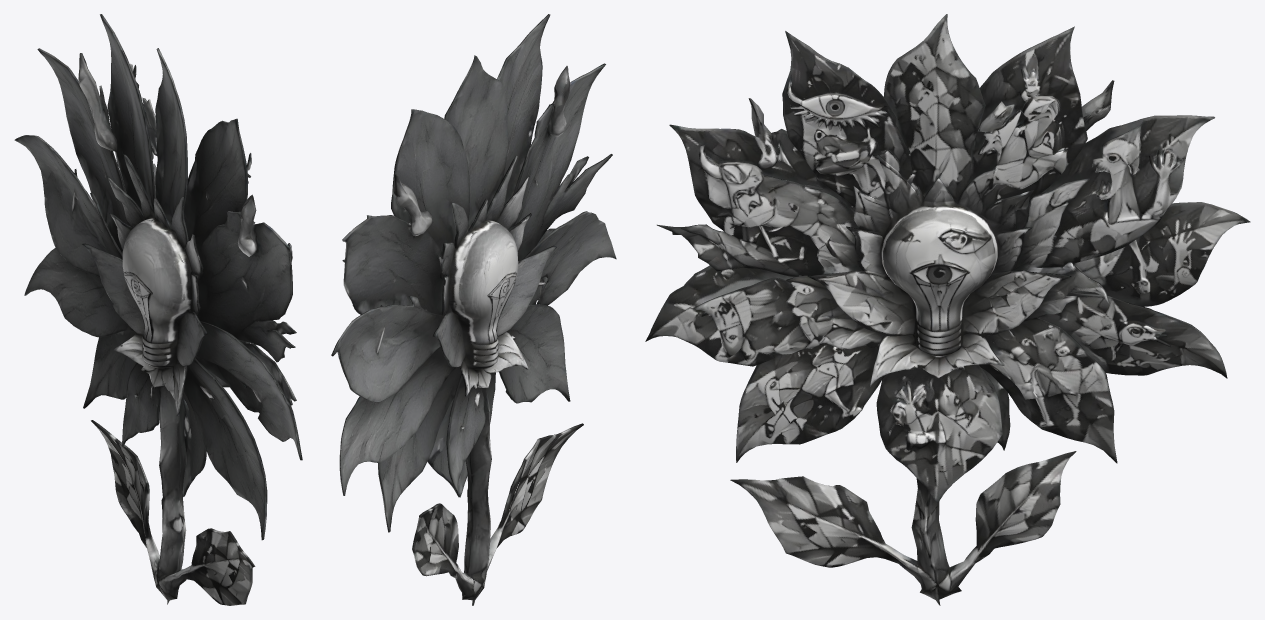
The model's file is collage+flower+3d+model+1k.glb.
3 renders of one model, left to right at view 1: azimuth 30°, elevation 25°; view 2: azimuth 150°, elevation 25°; view 3: azimuth 270°, elevation 25°, orthographic. The views are drawn at different scales.
Visible parts, largest first — view 1: tripo_node_9aca422c-0dd1-445b-9f5b-585c3aea01d9; view 2: tripo_node_9aca422c-0dd1-445b-9f5b-585c3aea01d9; view 3: tripo_node_9aca422c-0dd1-445b-9f5b-585c3aea01d9.
Part boxes in pixels (x1,y1,x2,y2): tripo_node_9aca422c-0dd1-445b-9f5b-585c3aea01d9: (14,14,302,605); tripo_node_9aca422c-0dd1-445b-9f5b-585c3aea01d9: (331,14,616,605); tripo_node_9aca422c-0dd1-445b-9f5b-585c3aea01d9: (645,14,1250,605).
Size of the model in its own units: 0.1289 by 1 by 0.9321.
Materials: 1 (1 with a texture image).
